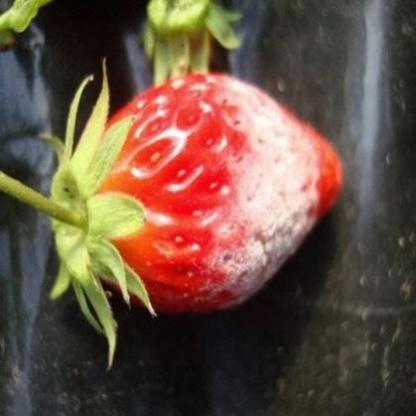Strawberry_Powdery_Mildew_Fruit: (166, 70, 328, 310)
